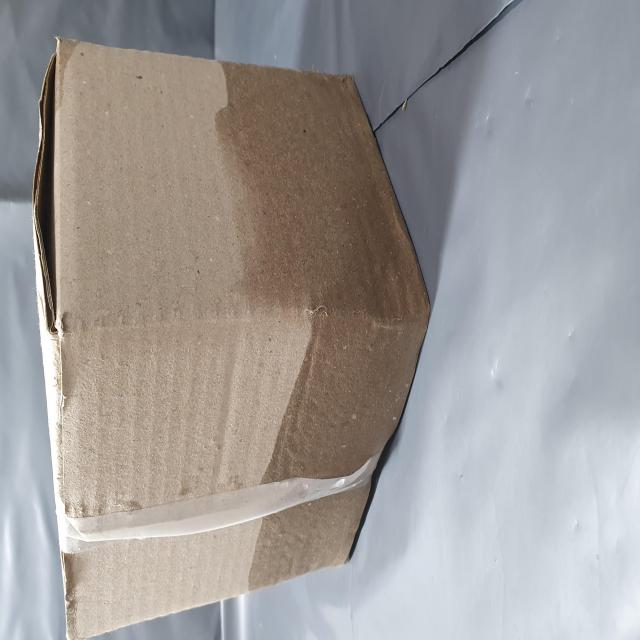wet: (7, 360, 353, 640)
